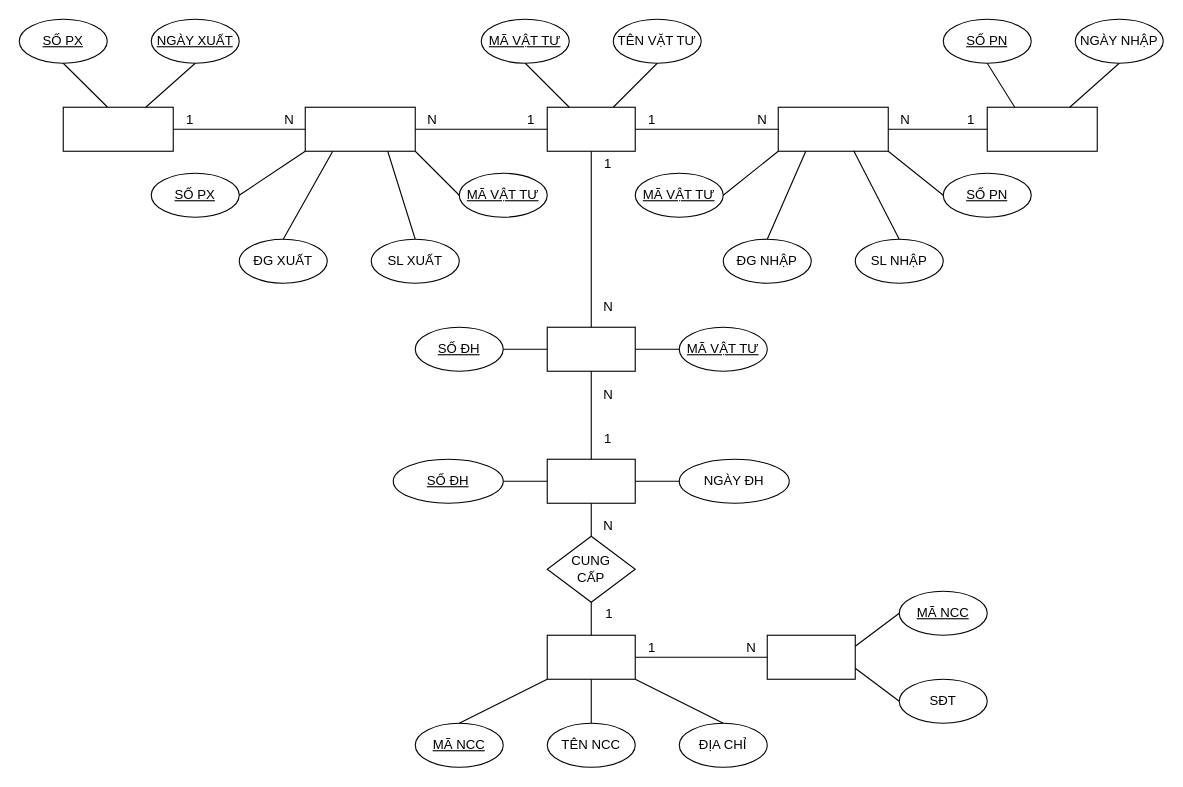
Image size: 1183x787. Some labels were removed from this diagram. The centre of each missing label's shape, as x and y in pixels:
"CHI TIẾT PHIẾU NHẬP" belongs at pixel 832 128.
"CHI TIẾT PHIẾU XUẤT" belongs at pixel 359 128.
"NHÀ CC" belongs at pixel 590 656.
"PHIẾU NHẬP" belongs at pixel 1041 128.
"PHIẾU XUẤT" belongs at pixel 117 128.
"THÔNG TIN ĐƠN ĐH" belongs at pixel 590 348.
"VẬT TƯ" belongs at pixel 590 128.
"ĐIỆN THOẠI LIÊN LẠC" belongs at pixel 810 656.
"ĐƠN ĐH" belongs at pixel 590 480.
